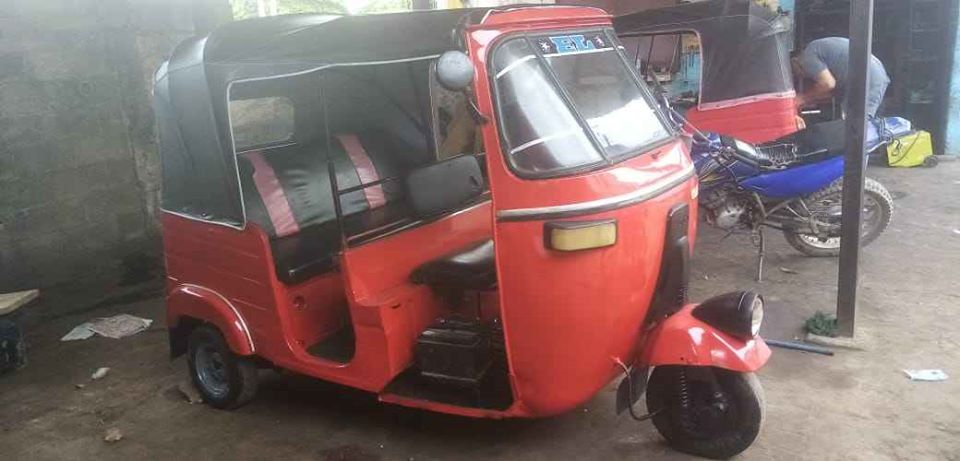mototaxi: (146, 8, 768, 454)
